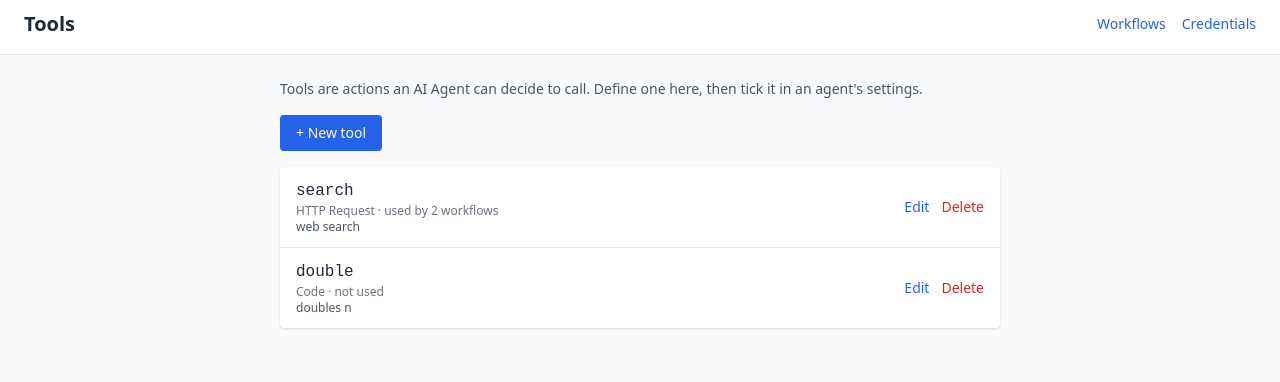
Scenario: ToolsView › names the workflows when deletion is refused
Step 1. Click the button with test id "delete-tool" in the row of "HTTP Request · used by 2 workflows" → (963, 207), box top-left (941, 197), bottom-right (984, 217)
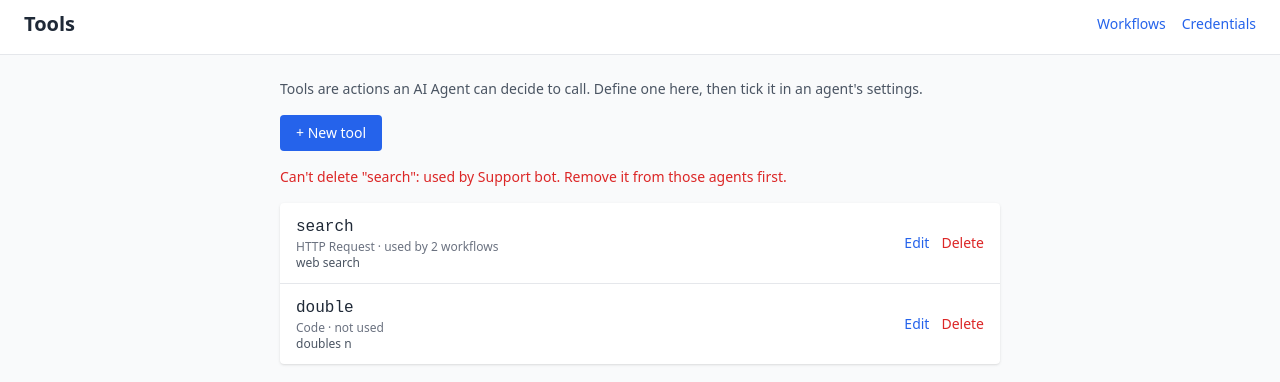
Now the text "Can't delete \"search\": used by Support bot. Remove it from those agents first." is shown, box top-left (280, 167), bottom-right (787, 186)
